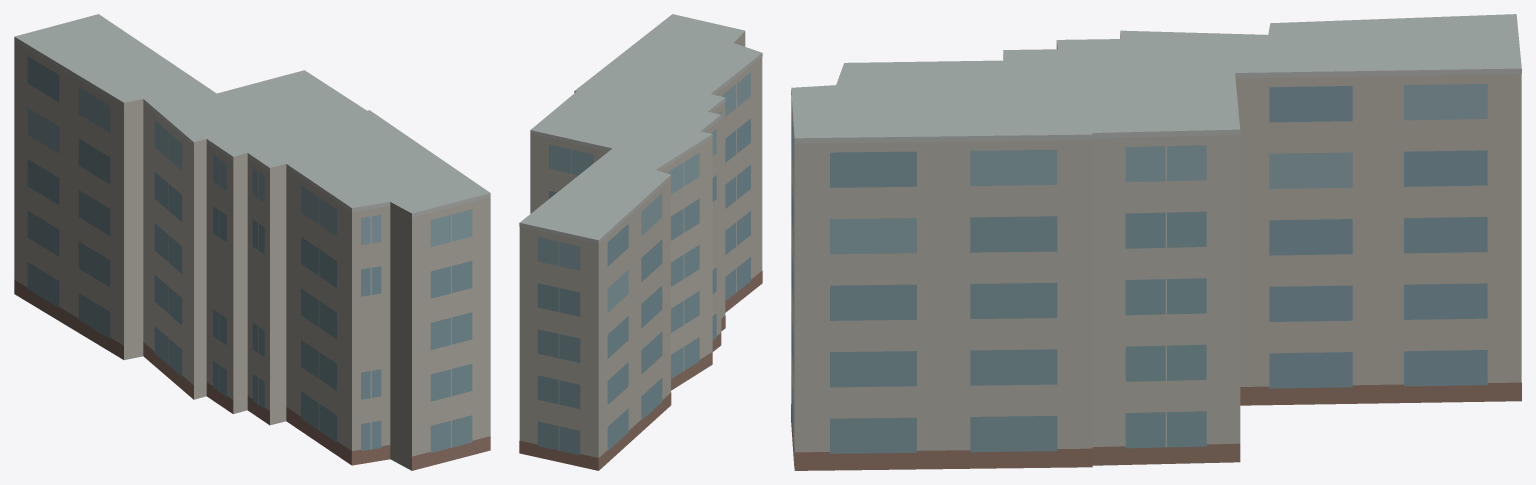
Rendered from survey-upis-32641945.glb.
The picture shows the model from 3 angles, left to right: view 1: azimuth 30°, elevation 25°; view 2: azimuth 150°, elevation 25°; view 3: azimuth 270°, elevation 25°; orthographic projection. The views are drawn at different scales.
Parts seen in each view (by area): view 1: survey-upis-32641945.tmp; view 2: survey-upis-32641945.tmp; view 3: survey-upis-32641945.tmp.
Part boxes in pixels (<box>): survey-upis-32641945.tmp: <box>14,14,490,470</box>; survey-upis-32641945.tmp: <box>519,14,762,470</box>; survey-upis-32641945.tmp: <box>791,14,1521,470</box>.
Size of the model in its own units: 11.95 by 14.9 by 29.67.
